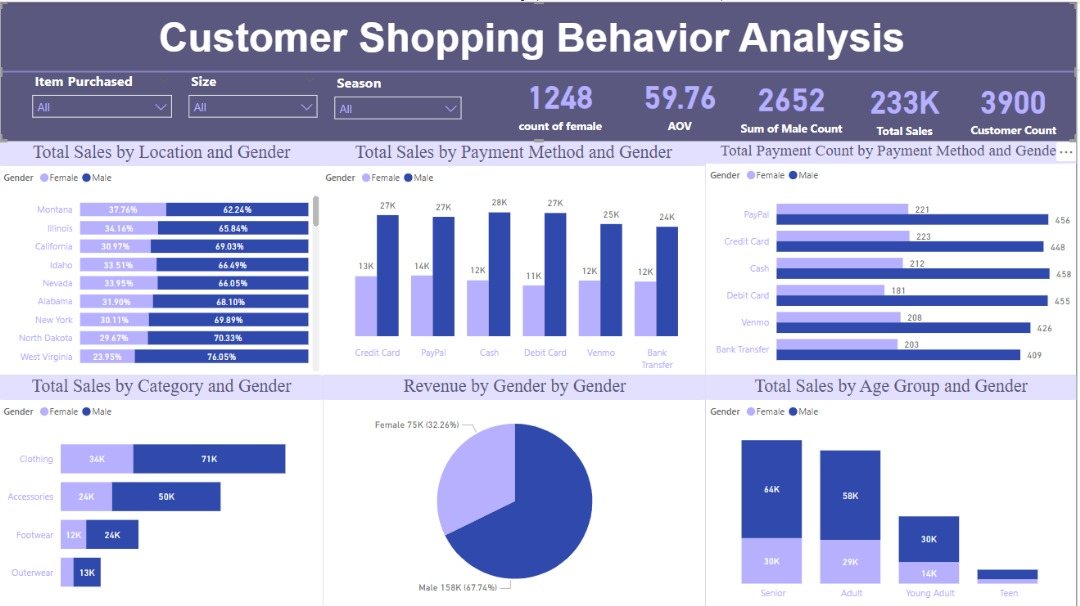

This screenshot's page, from the dashboard's own definition file:
{"tool":"powerbi","page":{"name":"Page 1","canvas":[1280,720],"ordinal":0},"visuals":[{"type":"slicer","fields":{"Values":["shopping_behavior_updated.Size"]},"box":[214.8,78.3,172.8,87.6],"z":0,"group":"g1"},{"type":"card","fields":{"Values":["DAX Measures.Total Sales"]},"box":[1009.6,84.6,131.3,81.7],"z":0},{"type":"slicer","fields":{"Values":["shopping_behavior_updated.Season"]},"box":[387.6,80.3,170.9,85.5],"z":1000,"group":"g1"},{"type":"card","fields":{"Values":["DAX Measures.Customer Count"]},"box":[1130.2,84.6,148.8,80.7],"z":1000},{"type":"slicer","fields":{"Values":["shopping_behavior_updated.Item Purchased"]},"box":[29.3,78.3,185.5,87.6],"z":2000,"group":"g1"},{"type":"card","fields":{"Values":["DAX Measures.AOV"]},"box":[744.1,77.8,128.4,83.6],"z":2000},{"type":"textbox","box":[0,11,1279,70],"z":3000,"group":"g1"},{"type":"barChart","fields":{"Category":["shopping_behavior_updated.Category"],"Y":["DAX Measures.Total Sales"],"Series":["shopping_behavior_updated.Gender"]},"box":[0,444.5,385.2,275.3],"z":3000},{"type":"card","fields":{"Values":["dax.count of female"]},"box":[588.4,77.8,155.6,83.6],"z":4000},{"type":"card","fields":{"Values":["Sum(dax.Male Count)"]},"box":[872.5,80.7,137.1,83.6],"z":5000},{"type":"pieChart","fields":{"Category":["shopping_behavior_updated.Gender"],"Y":["dax.Revenue by Gender"]},"box":[385.2,444.5,454.2,275.3],"z":6000},{"type":"columnChart","fields":{"Category":["shopping_behavior_updated.Age Group"],"Y":["dax.Total Sales"],"Series":["shopping_behavior_updated.Gender"]},"box":[839.4,444.5,439.6,275.3],"z":7000},{"type":"clusteredBarChart","fields":{"Category":["shopping_behavior_updated.Payment Method"],"Y":["dax.Total Payment Count"],"Series":["shopping_behavior_updated.Gender"]},"box":[839.4,166.3,439.6,278.2],"z":8000},{"type":"hundredPercentStackedBarChart","fields":{"Category":["shopping_behavior_updated.Location"],"Y":["dax.Total Sales"],"Series":["shopping_behavior_updated.Gender"]},"box":[0,166.3,385.2,278.2],"z":9000},{"type":"clusteredColumnChart","fields":{"Category":["shopping_behavior_updated.Payment Method"],"Y":["dax.Total Sales"],"Series":["shopping_behavior_updated.Gender"]},"box":[382.2,166.3,457.1,278.2],"z":10000},{"type":"group","id":"g1","title":"Group 1","box":[0,11,1279,154.9],"z":11000},{"type":"shape","box":[1,0,1279,166.3],"z":11001}]}

Visuals, with their boxes in screenshot pixels (x1, y1, x2, y2), scaled from the page's 1280x720 canvas onto the 1080x606 screenshot:
slicer - shopping_behavior_updated.Size: box(181, 66, 327, 140)
card - DAX Measures.Total Sales: box(852, 71, 963, 140)
slicer - shopping_behavior_updated.Season: box(327, 68, 471, 140)
card - DAX Measures.Customer Count: box(954, 71, 1079, 139)
slicer - shopping_behavior_updated.Item Purchased: box(25, 66, 181, 140)
card - DAX Measures.AOV: box(628, 65, 736, 136)
textbox: box(0, 9, 1079, 68)
barChart - shopping_behavior_updated.Category x DAX Measures.Total Sales: box(0, 374, 325, 605)
card - dax.count of female: box(496, 65, 628, 136)
card - Sum(dax.Male Count): box(736, 68, 852, 138)
pieChart - shopping_behavior_updated.Gender x dax.Revenue by Gender: box(325, 374, 708, 605)
columnChart - shopping_behavior_updated.Age Group x dax.Total Sales: box(708, 374, 1079, 605)
clusteredBarChart - shopping_behavior_updated.Payment Method x dax.Total Payment Count: box(708, 140, 1079, 374)
hundredPercentStackedBarChart - shopping_behavior_updated.Location x dax.Total Sales: box(0, 140, 325, 374)
clusteredColumnChart - shopping_behavior_updated.Payment Method x dax.Total Sales: box(322, 140, 708, 374)
"Group 1" group: box(0, 9, 1079, 140)
shape: box(1, 0, 1079, 140)
